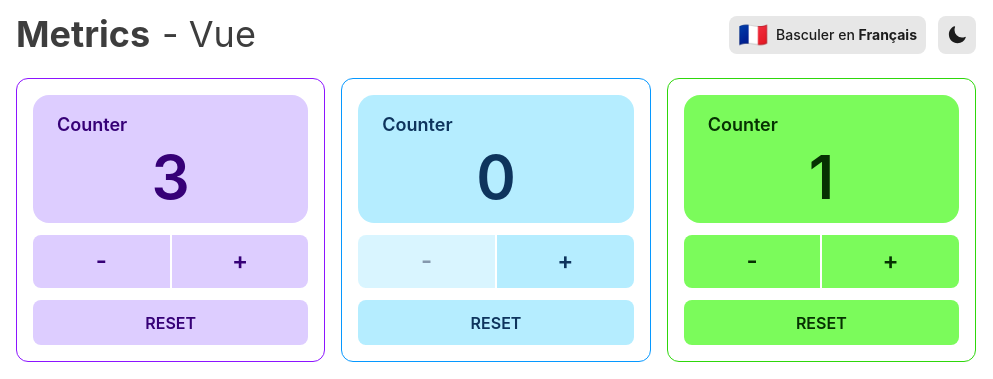
Scenario: Testing Vue3: › Metrics display › metrics block 1 › should decrement value when clicking on -
The width and height of the screenshot is (993, 379).
Click the button with test id "counter-decrease-button".
click(102, 262)  # box [33,235,170,288]
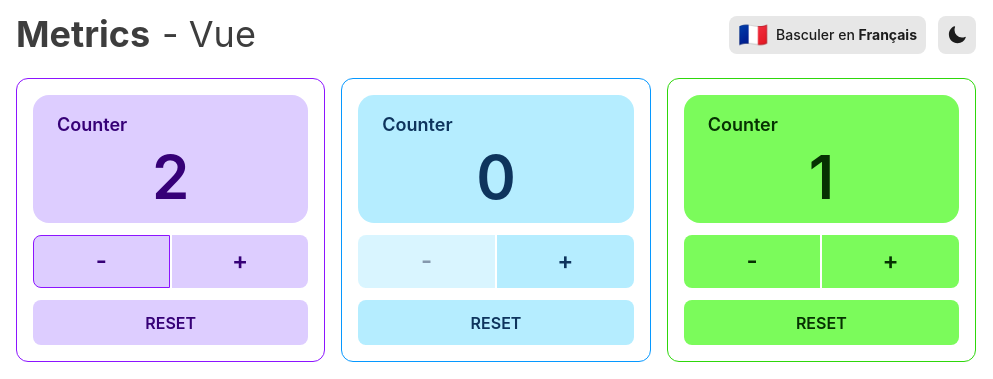
Check: the text with test id "display-value" reads "2", box [152,147,189,207]
